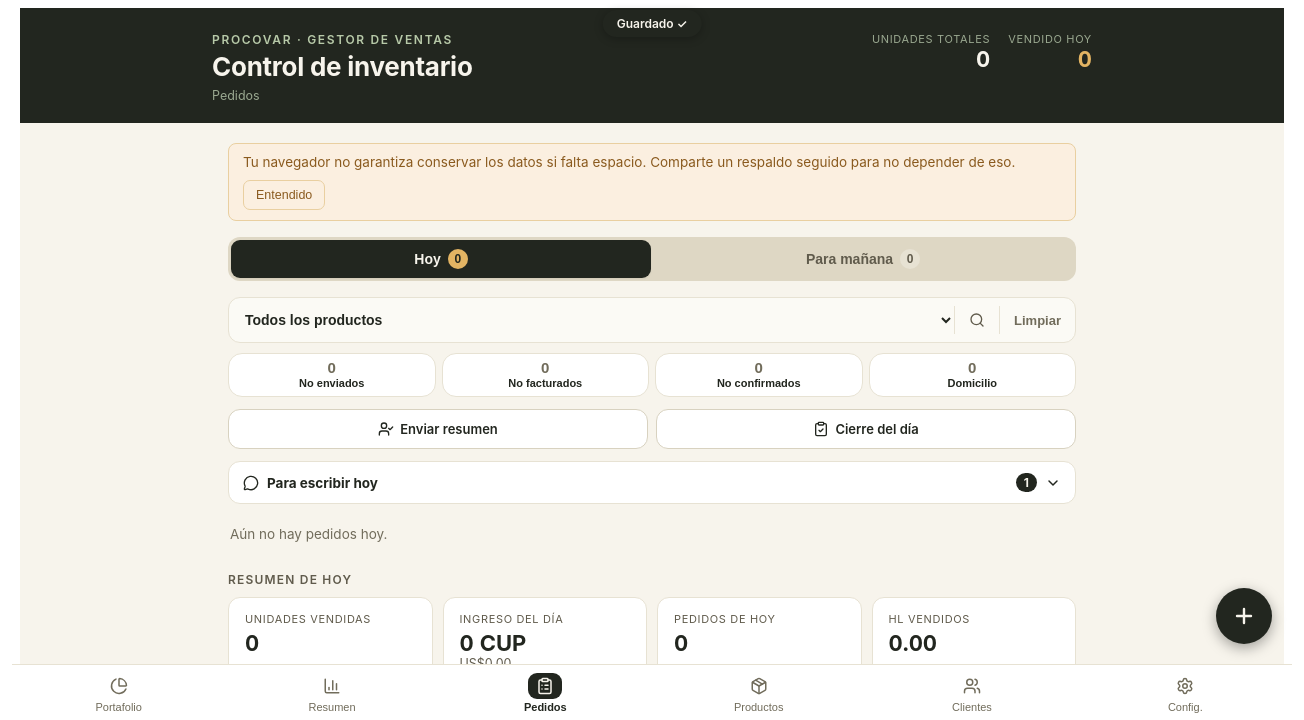
Test case: Para escribir hoy (tarjeta en Pedidos > Hoy) › aparece con cuántos clientes les toca y se abre al tocarla
expect the text "Bodega Sol" is not shown: met
Click the button "Para escribir hoy 1": {"x": 322, "y": 482} [229, 462, 1075, 503]
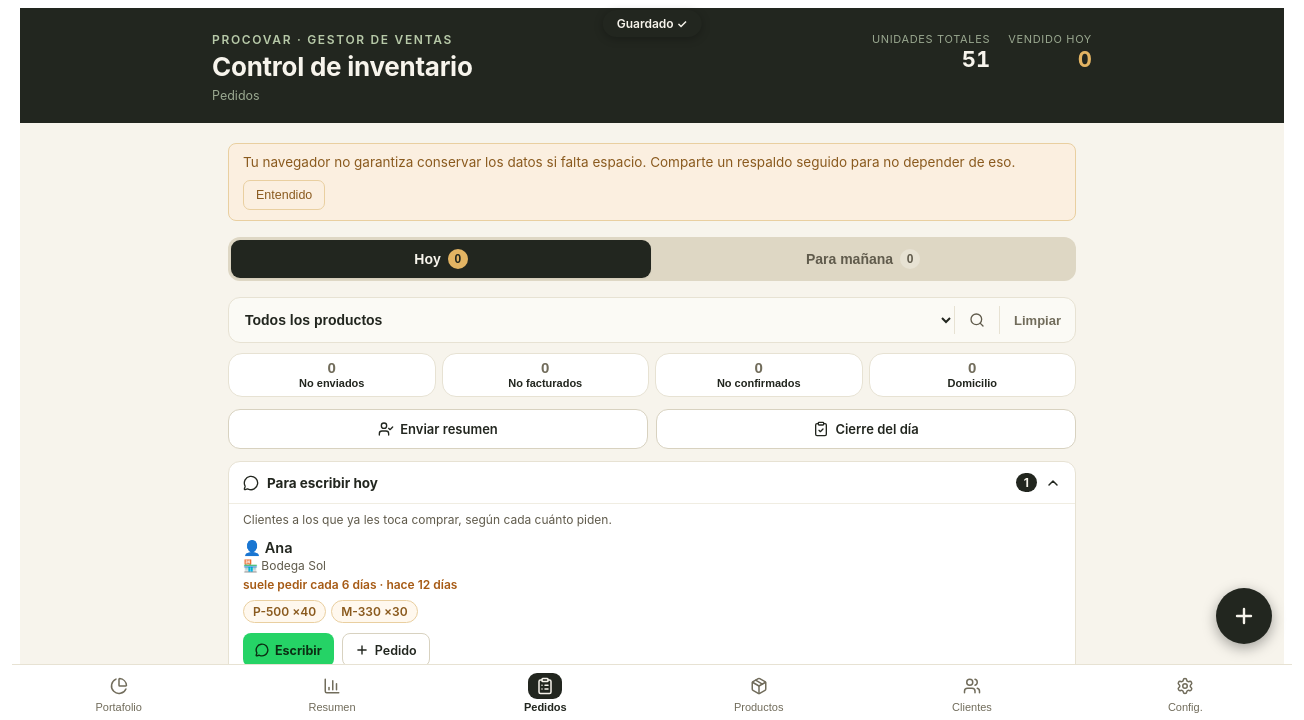
expect the text "🏪 Bodega Sol" is shown: met, box [243, 558, 326, 573]
expect the text "suele pedir cada 6 días · hace 12 días" is shown: met, box [243, 577, 457, 592]
expect the text "P-500 ×40" is shown: met, box [243, 600, 326, 623]
